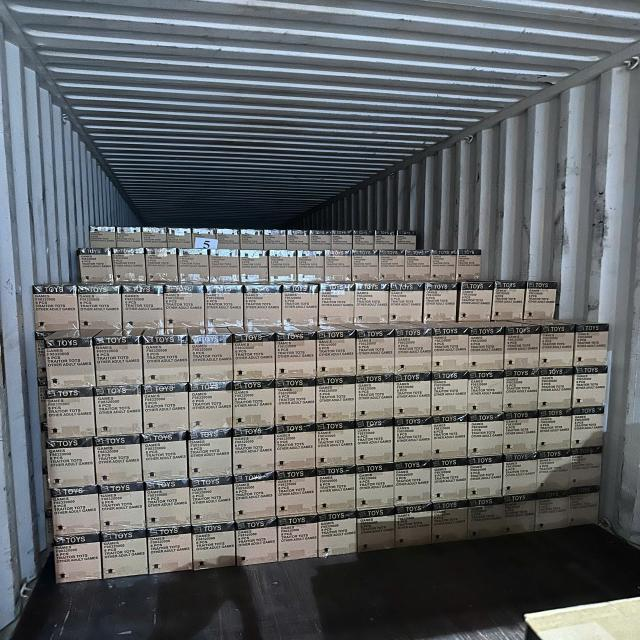Carton: (44, 337, 96, 389), (53, 531, 103, 585), (50, 485, 100, 536), (101, 528, 150, 580), (99, 481, 147, 532), (43, 394, 95, 441), (144, 479, 192, 529), (188, 474, 234, 525), (34, 285, 80, 333), (191, 336, 235, 386), (94, 342, 142, 386), (94, 441, 142, 485), (232, 472, 276, 520), (94, 395, 143, 438), (46, 446, 96, 488), (144, 342, 190, 386), (78, 285, 122, 331), (190, 392, 234, 438), (148, 532, 194, 576), (122, 284, 165, 331), (193, 525, 237, 570), (232, 387, 276, 431), (144, 393, 190, 435), (163, 284, 205, 329), (143, 441, 190, 481), (233, 339, 276, 382), (236, 522, 278, 566), (275, 337, 317, 381), (275, 428, 316, 472), (232, 435, 276, 476), (274, 383, 316, 425), (190, 438, 233, 479), (243, 284, 283, 328), (315, 428, 356, 470), (276, 476, 317, 518), (316, 381, 356, 424), (354, 379, 394, 422), (316, 473, 357, 514), (278, 523, 318, 564), (205, 286, 244, 328), (316, 336, 356, 376), (318, 517, 358, 557), (396, 334, 435, 375), (356, 337, 395, 378), (318, 282, 354, 326), (354, 428, 394, 467), (395, 426, 435, 465), (357, 512, 395, 553), (434, 332, 471, 374), (502, 491, 536, 536), (468, 331, 504, 373), (282, 284, 318, 326), (468, 495, 501, 540), (395, 379, 433, 418), (433, 377, 471, 416), (356, 472, 394, 511), (397, 509, 434, 549), (433, 506, 470, 546), (534, 489, 568, 532), (396, 467, 433, 506), (506, 330, 541, 371), (354, 282, 388, 324), (388, 282, 422, 324), (433, 466, 470, 504), (467, 422, 504, 460), (434, 421, 470, 460), (571, 407, 604, 449), (570, 445, 602, 488), (468, 462, 505, 499), (505, 376, 541, 414), (470, 378, 506, 416), (424, 283, 458, 323), (458, 284, 492, 324), (572, 366, 606, 406), (573, 331, 609, 368), (502, 461, 538, 498), (77, 247, 115, 282), (506, 417, 540, 456), (536, 453, 570, 492), (568, 485, 599, 527), (541, 331, 575, 369), (538, 414, 572, 452), (538, 374, 572, 411), (111, 248, 147, 282), (176, 248, 209, 284), (146, 247, 179, 283), (525, 288, 557, 325), (209, 249, 240, 287), (493, 286, 524, 323), (239, 249, 269, 284), (324, 250, 353, 283), (268, 250, 296, 282), (296, 250, 324, 282), (378, 249, 406, 281), (352, 250, 379, 282), (430, 249, 456, 282), (405, 250, 431, 282), (456, 249, 482, 281), (88, 225, 117, 250), (167, 226, 192, 249), (116, 226, 142, 248), (192, 228, 216, 250), (216, 228, 240, 250), (142, 227, 167, 248), (239, 229, 264, 250), (263, 229, 287, 250), (286, 229, 309, 250), (373, 229, 395, 250), (309, 230, 331, 250), (330, 230, 352, 250), (353, 230, 375, 250), (395, 230, 417, 250)
